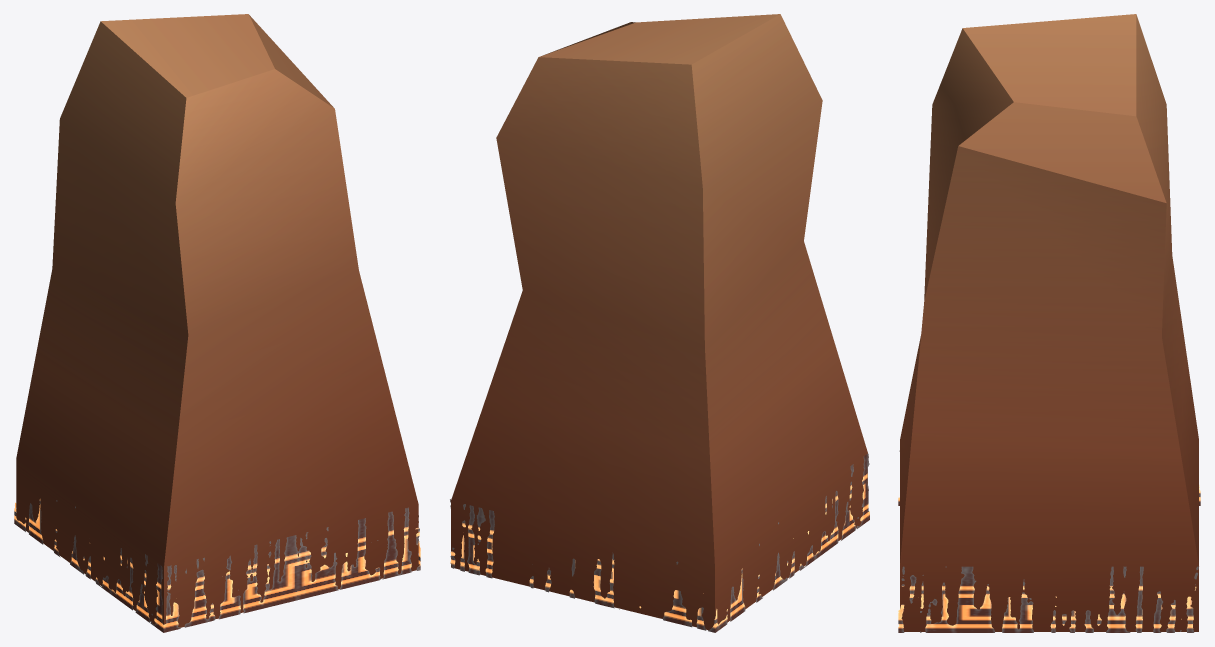
Rendered from Rocks_01.fbx.
3 renders of one model, left to right at view 1: azimuth 30°, elevation 25°; view 2: azimuth 150°, elevation 25°; view 3: azimuth 270°, elevation 25°, orthographic. The views are drawn at different scales.
Visible parts, largest first — view 1: Cube, Cube.001; view 2: Cube, Cube.001; view 3: Cube, Cube.001.
Boxes of the visible parts, bbox=[...] form: Cube: bbox=[16, 14, 418, 627]; Cube.001: bbox=[14, 499, 420, 632]; Cube: bbox=[451, 14, 867, 630]; Cube.001: bbox=[450, 453, 869, 632]; Cube: bbox=[900, 14, 1198, 631]; Cube.001: bbox=[898, 450, 1200, 632].
Size of the model in its own units: 119 by 226 by 119.
